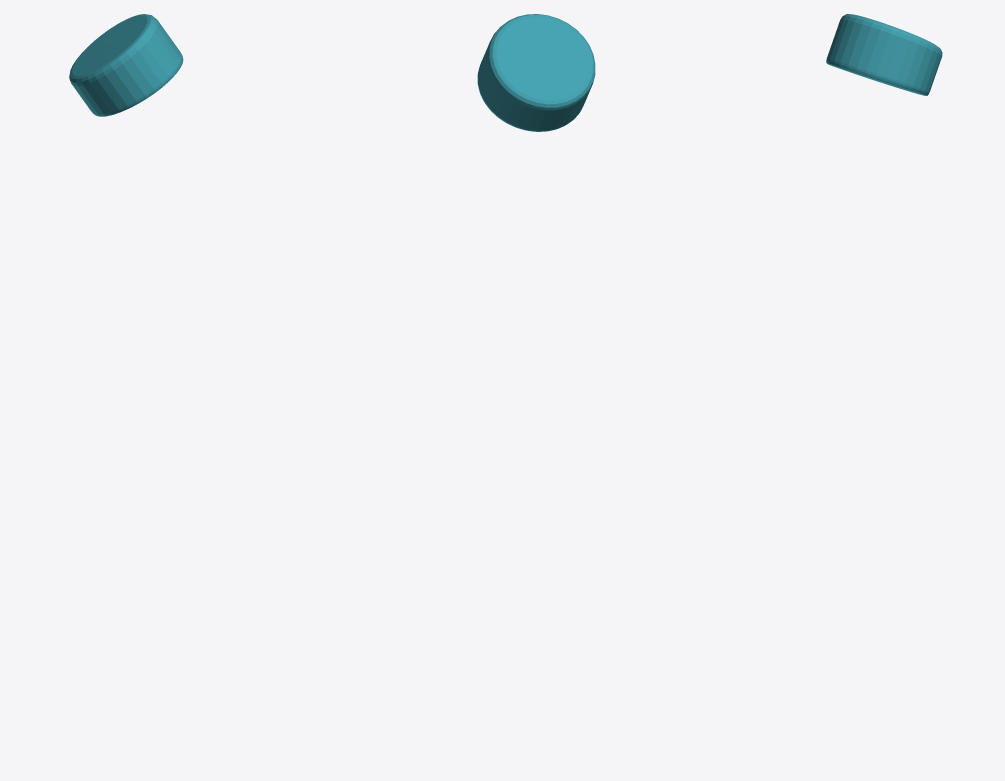
File: bend_high_1.obj
The picture shows the model from 3 angles, left to right: view 1: azimuth 30°, elevation 25°; view 2: azimuth 150°, elevation 25°; view 3: azimuth 270°, elevation 25°; orthographic projection. The views are drawn at different scales.
Visible parts, largest first — view 1: model; view 2: model; view 3: model.
Part boxes in pixels (bbox=[...]): model: bbox=[69, 14, 183, 116]; model: bbox=[477, 14, 595, 131]; model: bbox=[826, 14, 942, 95].
Bounding box in the file's own units: 0.1038 × 0.2596 × 0.0926.
Materials: 1 (1 with a texture image).
